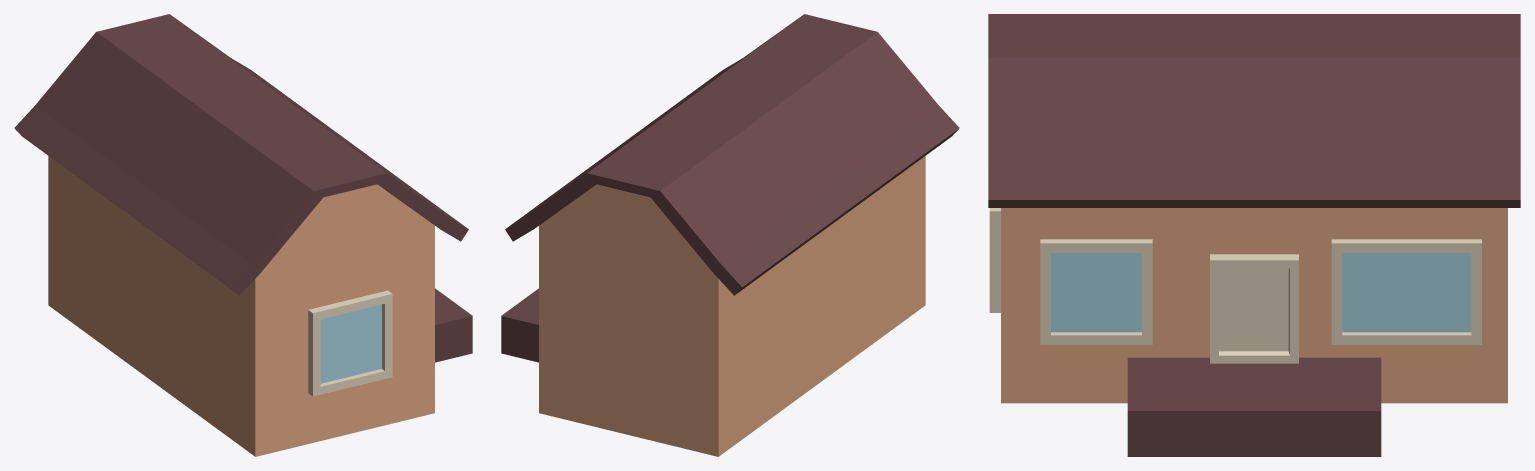
The model's file is shithouse.glb.
3 renders of one model, left to right at view 1: azimuth 30°, elevation 25°; view 2: azimuth 150°, elevation 25°; view 3: azimuth 270°, elevation 25°, orthographic. The views are drawn at different scales.
Parts seen in each view (by area): view 1: Cube, roof, glass, windows, Cube.001; view 2: Cube, roof, Cube.001; view 3: roof, Cube, Cube.001, glass, windows, Cube.002.
Boxes of the visible parts, x1=… form: Cube: x1=48, y1=156, x2=434, y2=456; roof: x1=14, y1=14, x2=468, y2=295; glass: x1=320, y1=304, x2=381, y2=383; windows: x1=308, y1=290, x2=392, y2=396; Cube.001: x1=435, y1=288, x2=472, y2=362; Cube: x1=539, y1=156, x2=925, y2=456; roof: x1=505, y1=14, x2=959, y2=295; Cube.001: x1=501, y1=288, x2=538, y2=362; roof: x1=988, y1=14, x2=1520, y2=207; Cube: x1=1001, y1=208, x2=1507, y2=403; Cube.001: x1=1127, y1=357, x2=1381, y2=456; glass: x1=1051, y1=253, x2=1471, y2=332; windows: x1=989, y1=208, x2=1481, y2=344; Cube.002: x1=1210, y1=254, x2=1298, y2=363.
Bounding box in the file's own units: 13.29 × 10.94 × 16.8.
